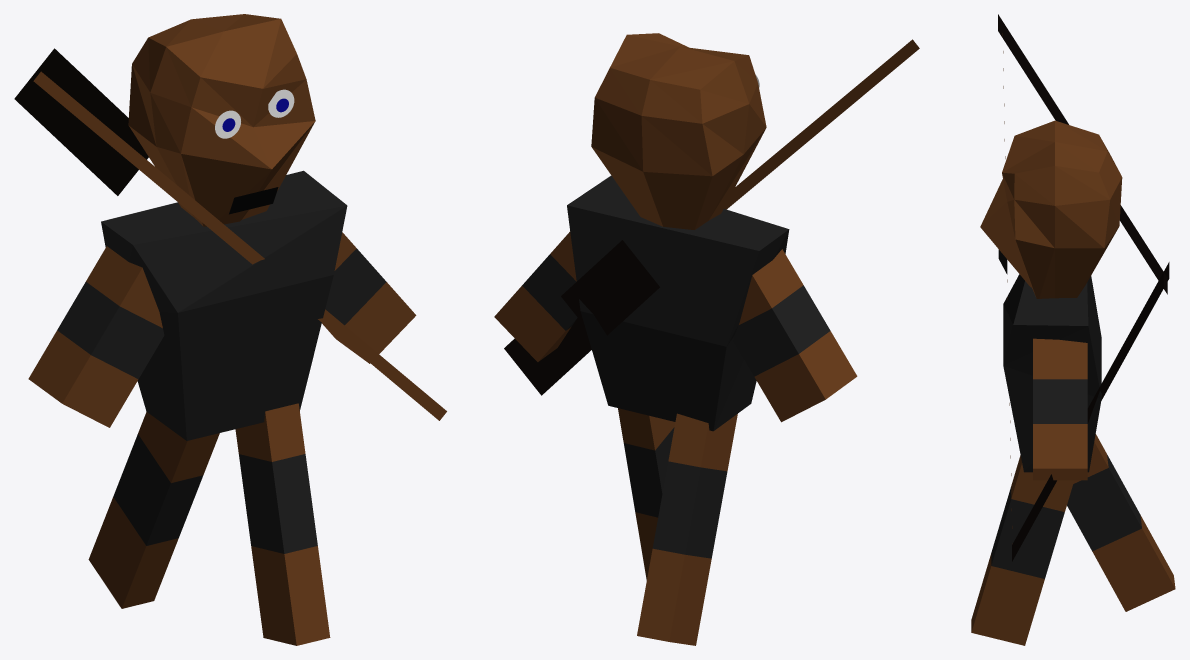
Rendered from archer2.obj.
3 views of the same model, side by side, from view 1: azimuth 30°, elevation 25°; view 2: azimuth 150°, elevation 25°; view 3: azimuth 270°, elevation 25° (orthographic). The views are drawn at different scales.
Parts seen in each view (by area): view 1: Cube.001, Cube, Cube.005, Cube.003, Cube.004, Plane.002_Plane.003, Plane.003_Plane.004, Cube.002, Plane; view 2: Cube.001, Cube, Cube.004, Cube.003, Plane.001_Plane.002, Cube.002, Cube.005, Plane.003_Plane.004; view 3: Cube, Cube.005, Cube.001, Cube.004, Cube.002, Plane.001_Plane.002, Plane.002_Plane.003.
Part boxes in pixels (<box>): Cube.001: <box>101,170,347,440</box>; Cube: <box>128,14,315,226</box>; Cube.005: <box>235,403,330,645</box>; Cube.003: <box>28,246,164,427</box>; Cube.004: <box>88,412,219,608</box>; Plane.002_Plane.003: <box>14,48,148,195</box>; Plane.003_Plane.004: <box>33,71,446,420</box>; Cube.002: <box>322,232,416,363</box>; Plane: <box>229,187,278,214</box>; Cube.001: <box>567,175,789,431</box>; Cube: <box>591,33,766,229</box>; Cube.004: <box>637,413,737,645</box>; Cube.003: <box>733,249,857,422</box>; Plane.001_Plane.002: <box>504,240,659,395</box>; Cube.002: <box>494,231,577,361</box>; Cube.005: <box>618,408,675,580</box>; Plane.003_Plane.004: <box>724,39,919,209</box>; Cube: <box>980,120,1122,298</box>; Cube.005: <box>971,455,1074,645</box>; Cube.001: <box>1003,274,1101,472</box>; Cube.004: <box>1067,434,1175,611</box>; Cube.002: <box>1033,338,1087,480</box>; Plane.001_Plane.002: <box>1012,262,1169,561</box>; Plane.002_Plane.003: <box>998,14,1167,294</box>.
Size of the model in its own units: 4.75 by 6.48 by 2.26.
